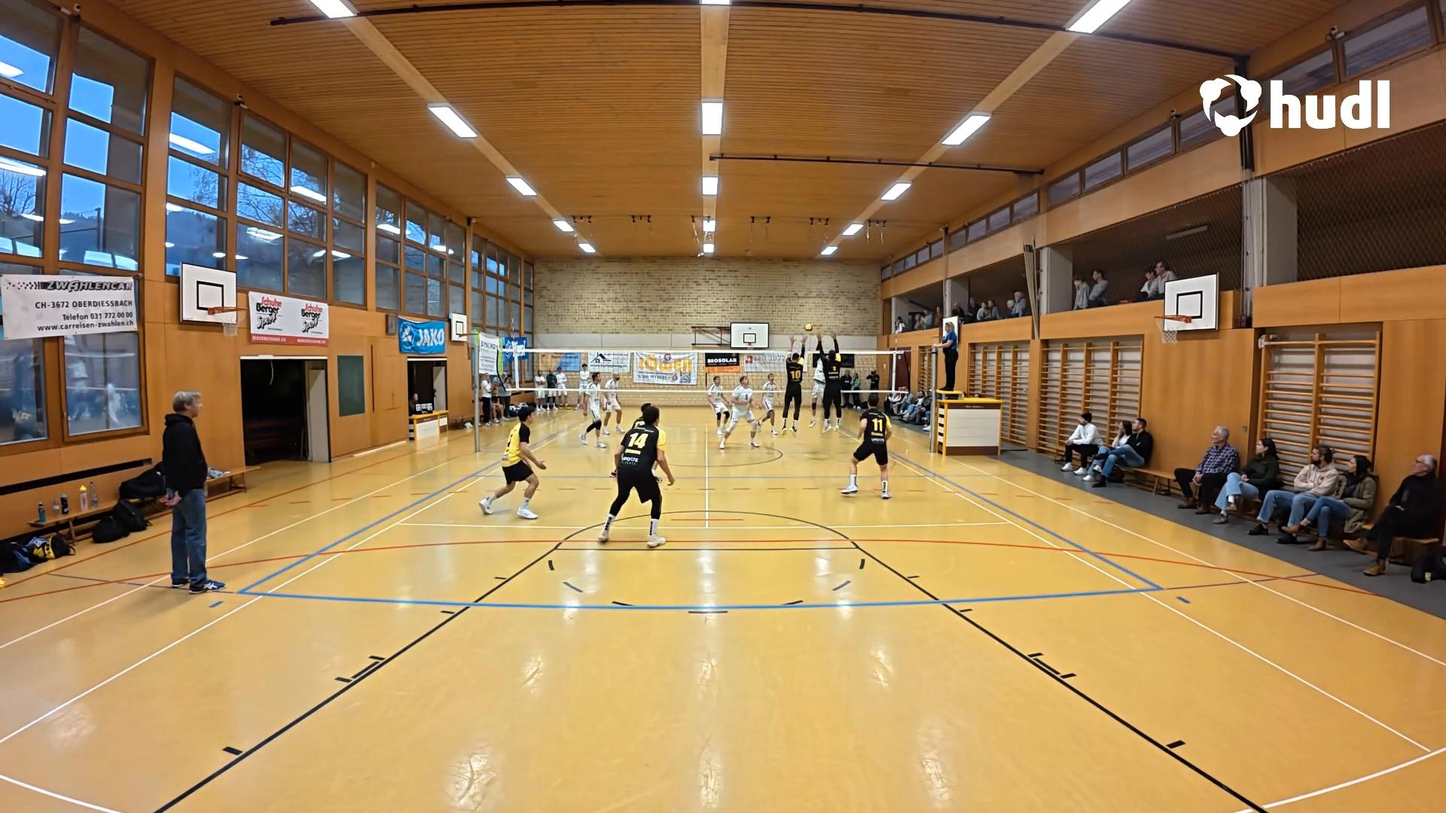Attack: (807, 333, 827, 430)
Block: (814, 326, 847, 433), (782, 333, 808, 438)
Player: (598, 407, 669, 549), (477, 419, 545, 519), (843, 400, 893, 498), (645, 406, 679, 487), (720, 378, 758, 449), (578, 370, 610, 448), (709, 375, 739, 443), (602, 370, 626, 435), (758, 373, 779, 434)
ball: (804, 321, 819, 333)
